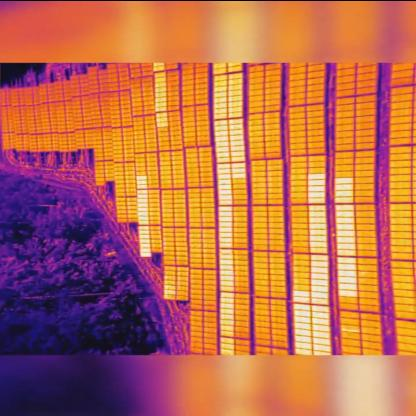diode: (294, 340, 312, 348), (307, 190, 324, 198), (295, 334, 311, 342), (295, 328, 311, 336), (294, 314, 310, 322), (218, 284, 234, 292), (334, 196, 354, 202), (335, 210, 355, 216), (335, 216, 355, 222), (310, 259, 330, 265), (310, 272, 330, 278), (310, 290, 330, 296), (310, 296, 330, 302), (228, 70, 243, 78), (336, 236, 355, 242), (294, 309, 310, 316), (294, 303, 310, 310), (229, 122, 243, 130), (334, 183, 352, 189), (335, 190, 353, 196), (335, 204, 353, 210), (337, 242, 355, 248), (337, 249, 355, 255), (338, 283, 356, 289), (338, 276, 356, 282), (338, 263, 356, 269), (307, 172, 325, 178), (307, 178, 325, 184), (306, 185, 324, 191), (308, 204, 326, 210), (308, 210, 326, 216), (309, 240, 327, 246), (310, 254, 328, 260), (311, 266, 329, 272), (312, 278, 330, 284), (313, 324, 331, 330), (313, 318, 331, 324), (311, 304, 329, 310), (218, 343, 236, 349), (309, 222, 326, 228), (334, 177, 354, 182), (308, 247, 328, 252), (218, 242, 232, 249), (340, 289, 356, 295), (308, 197, 324, 203), (310, 216, 326, 222), (310, 228, 326, 234), (293, 296, 309, 302), (293, 290, 309, 296), (315, 344, 331, 350), (218, 318, 234, 324), (214, 79, 226, 87), (229, 99, 241, 107), (338, 257, 357, 262), (337, 223, 355, 228), (338, 230, 356, 235), (294, 349, 312, 354), (219, 296, 234, 302), (315, 331, 330, 337), (219, 330, 234, 336), (213, 73, 228, 79), (339, 270, 356, 275), (296, 322, 310, 328), (314, 318, 328, 324), (218, 236, 232, 242), (213, 67, 227, 73), (230, 144, 244, 150), (228, 105, 242, 111), (310, 235, 326, 240), (310, 286, 330, 290), (231, 138, 242, 145), (313, 338, 332, 342), (216, 162, 231, 167), (221, 291, 233, 297), (312, 312, 330, 316), (138, 220, 150, 226), (218, 220, 230, 226), (219, 183, 231, 189), (218, 134, 230, 140), (216, 140, 228, 146), (214, 128, 226, 134), (233, 162, 245, 168), (231, 128, 243, 134), (229, 117, 241, 123), (230, 110, 242, 116), (229, 94, 241, 100), (229, 78, 241, 84), (230, 64, 242, 70), (154, 85, 166, 91), (218, 215, 232, 220), (212, 113, 226, 118), (138, 224, 149, 230), (219, 204, 230, 210), (219, 178, 230, 184), (233, 166, 244, 172), (234, 154, 245, 160), (231, 134, 242, 140), (230, 88, 241, 94), (229, 84, 240, 90), (140, 251, 152, 256), (138, 214, 148, 220), (219, 348, 234, 352), (220, 324, 235, 328), (220, 275, 232, 280), (218, 226, 233, 230), (218, 168, 230, 173), (213, 124, 228, 128), (213, 120, 228, 124), (214, 101, 226, 106), (214, 90, 224, 96), (156, 90, 166, 96), (156, 95, 166, 101), (220, 302, 234, 306), (219, 314, 233, 318), (219, 280, 233, 284), (219, 210, 233, 214), (218, 194, 232, 198), (217, 172, 231, 176), (216, 156, 230, 160), (232, 173, 246, 177), (228, 62, 242, 66), (220, 248, 231, 253), (219, 231, 230, 236), (233, 149, 244, 154), (314, 351, 332, 354), (138, 196, 148, 201), (214, 107, 224, 112), (164, 284, 174, 289), (139, 247, 151, 251), (220, 338, 232, 342), (220, 308, 232, 312), (220, 198, 232, 202), (221, 259, 233, 263), (214, 63, 226, 67), (136, 175, 145, 180), (156, 75, 165, 80), (221, 270, 232, 274), (219, 254, 230, 258), (217, 146, 228, 150), (218, 152, 229, 156), (140, 242, 150, 246), (141, 237, 151, 241), (139, 230, 149, 234), (138, 211, 148, 215), (221, 264, 231, 268), (159, 121, 167, 126), (158, 111, 166, 116), (157, 106, 167, 110), (156, 101, 166, 105), (156, 80, 166, 84), (155, 71, 165, 75), (156, 65, 164, 70), (342, 328, 360, 330), (138, 234, 150, 237), (221, 222, 230, 226), (218, 190, 230, 193), (216, 96, 222, 102), (138, 178, 146, 182), (138, 184, 146, 188), (138, 202, 146, 206), (221, 216, 229, 220), (138, 207, 148, 210), (156, 117, 166, 120), (164, 290, 174, 293), (138, 190, 146, 193), (139, 194, 148, 196), (154, 63, 164, 64)
hotspot: (163, 294, 169, 297)
